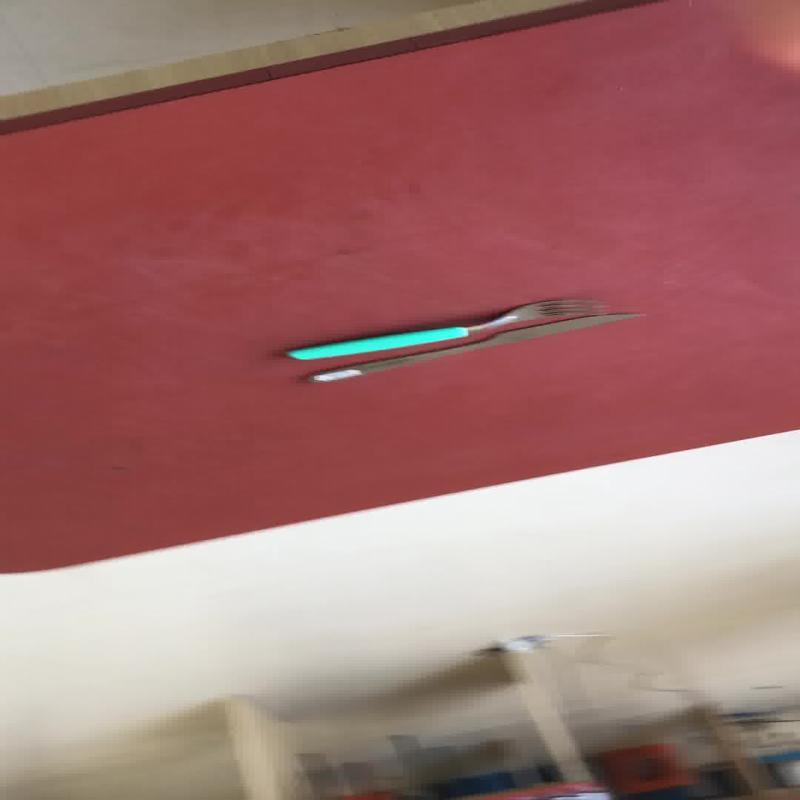fork: (282, 297, 605, 361)
knife: (303, 310, 644, 383)
